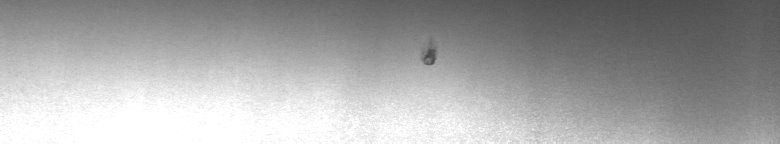fi: (420, 40, 443, 72)
